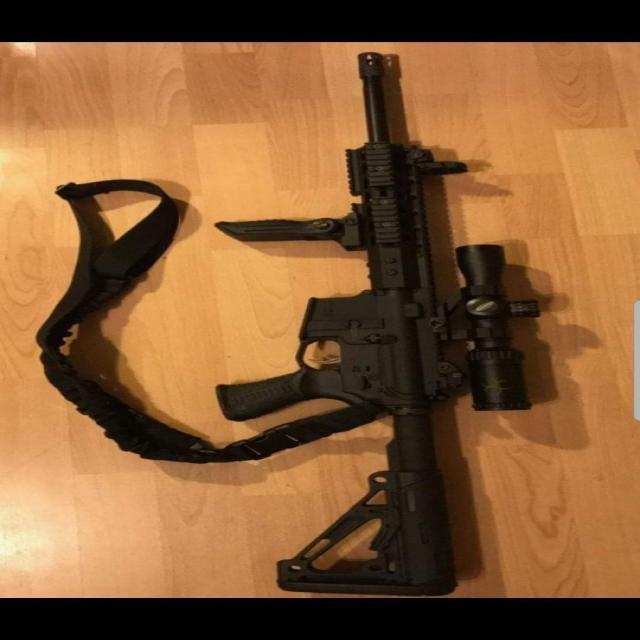Rifle: (215, 53, 513, 595)
